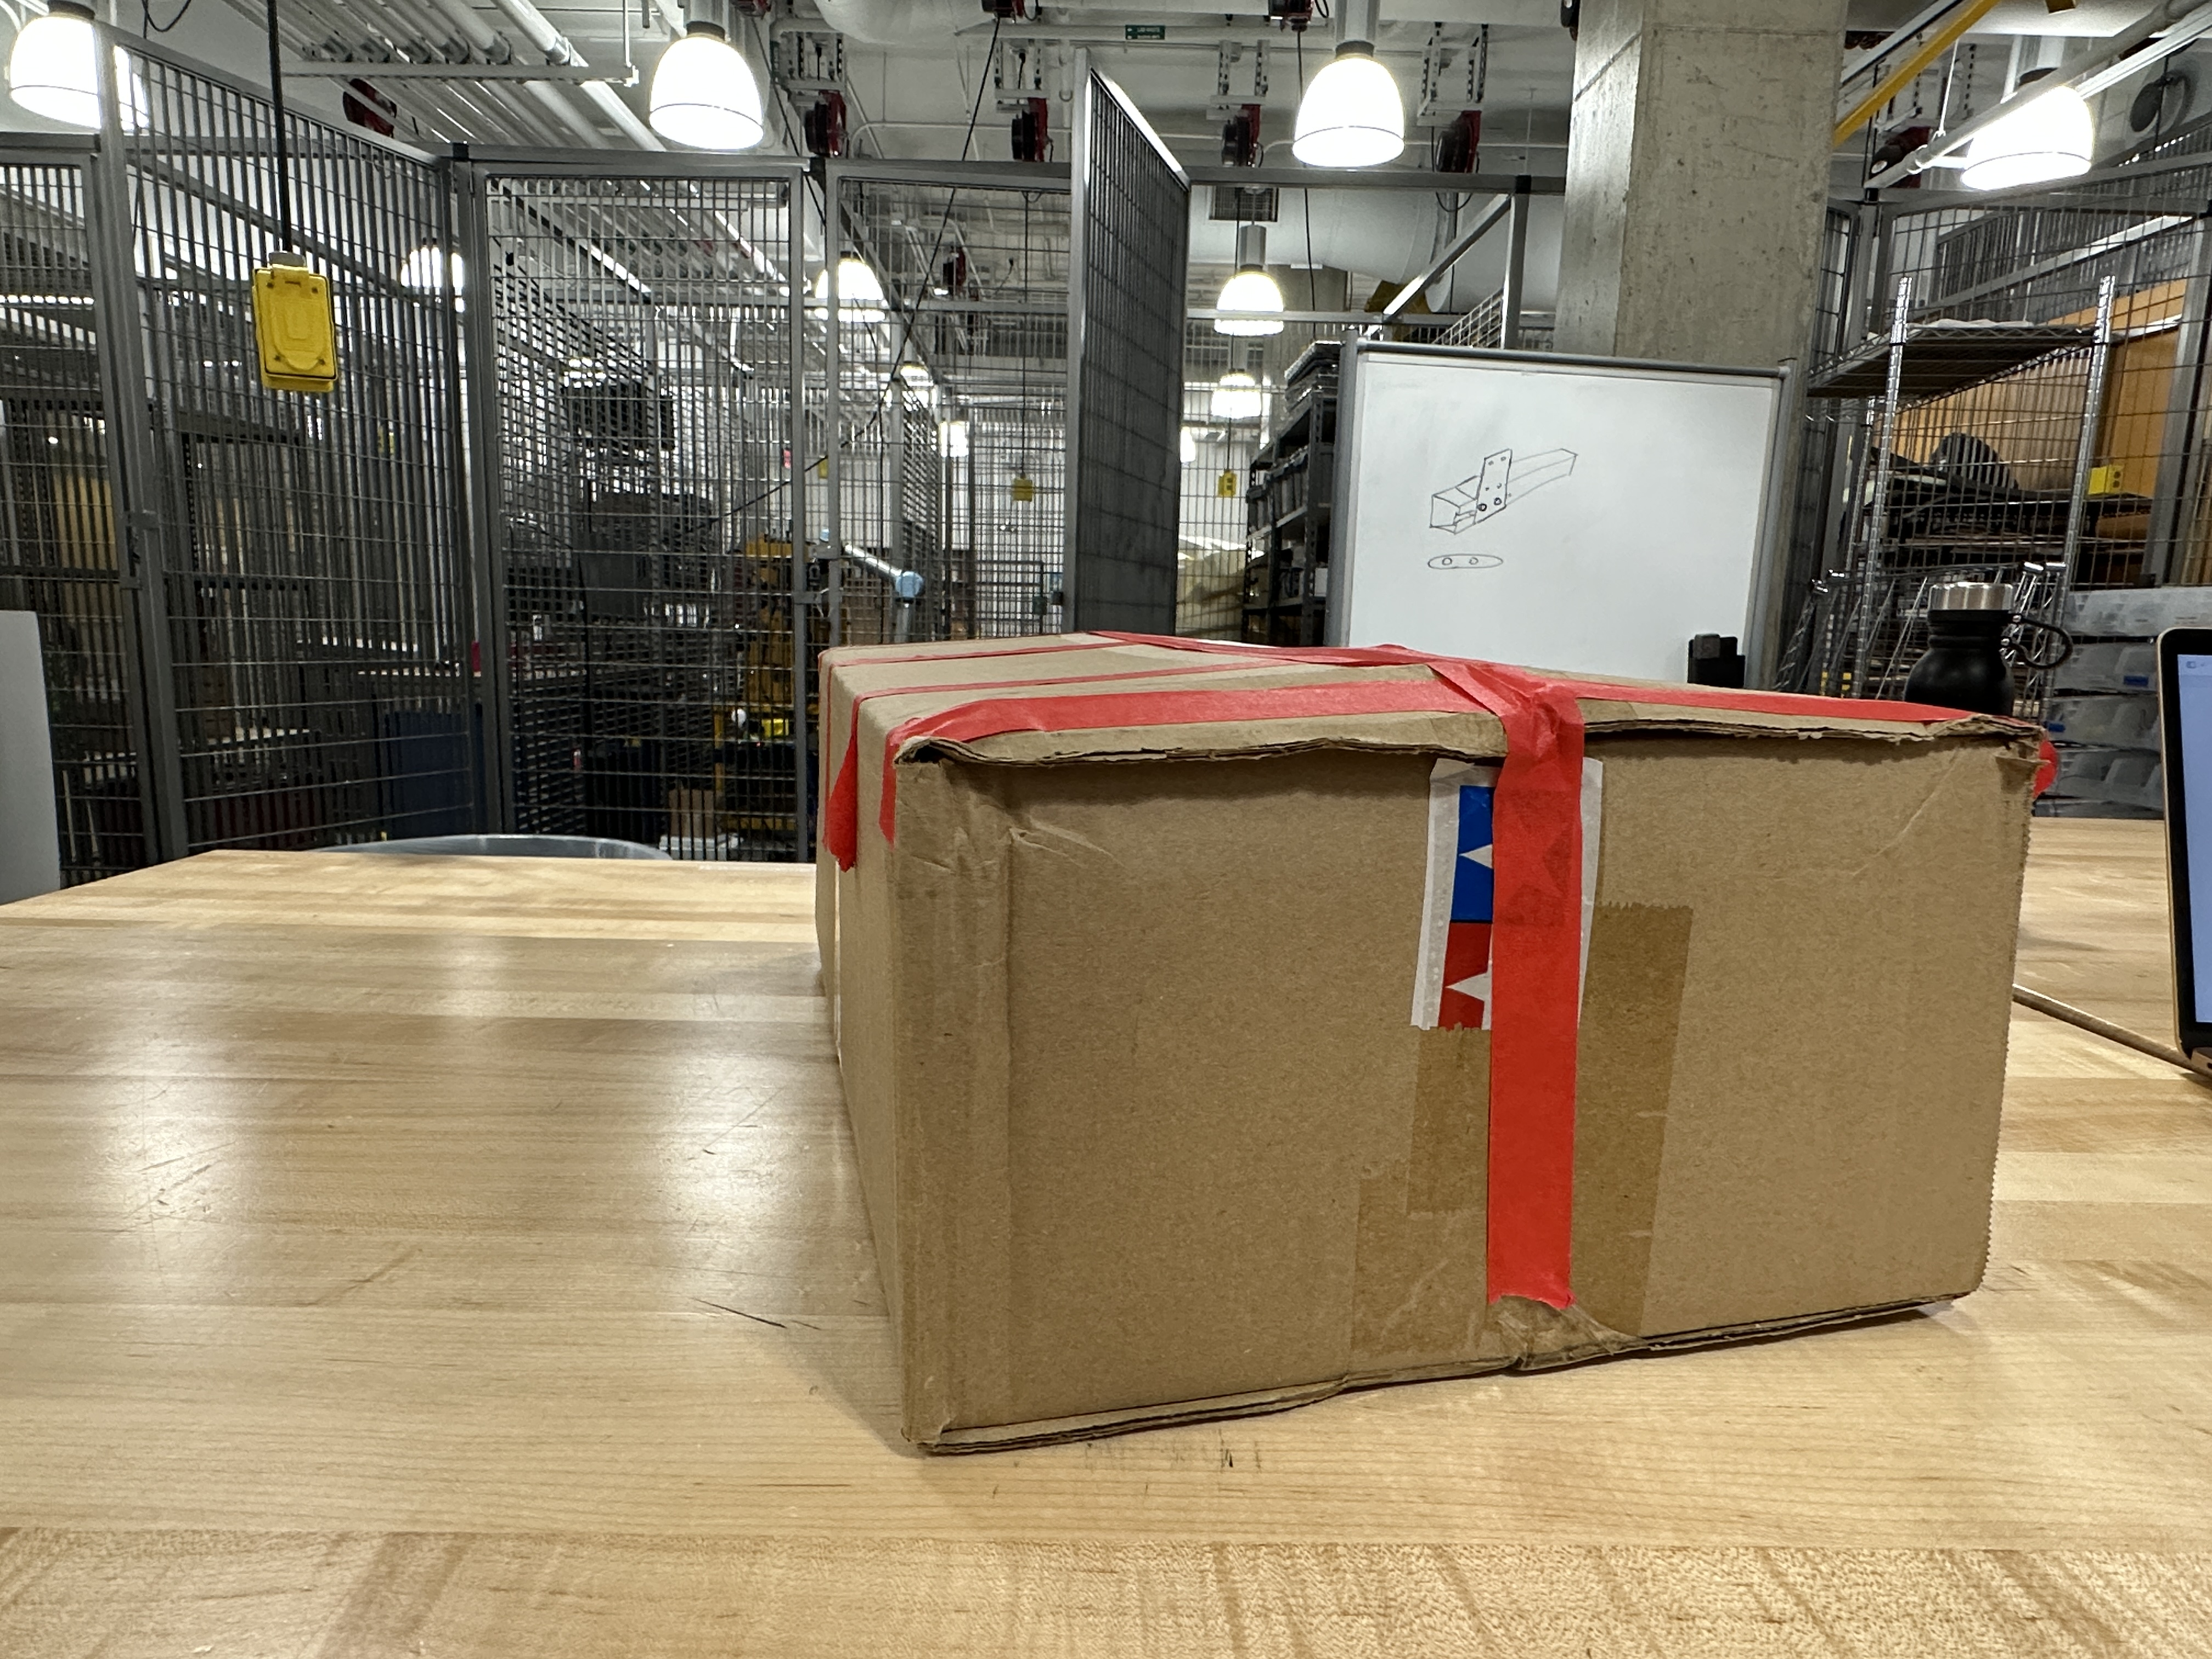Box_Obstacle: (798, 615, 2070, 1467)
